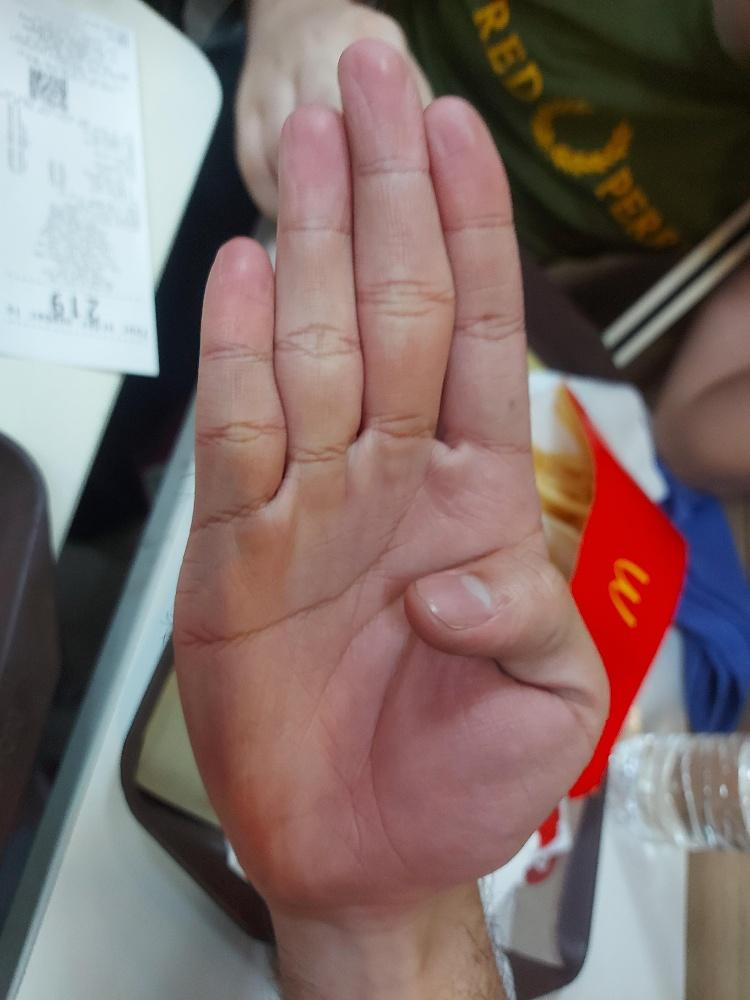b: (167, 31, 613, 918)
